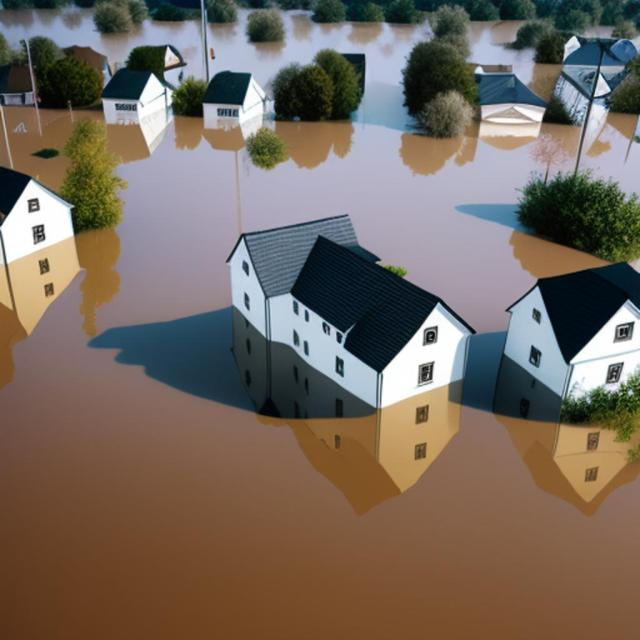flood: (0, 9, 640, 640), (0, 7, 200, 75), (470, 22, 561, 98), (3, 106, 72, 191), (582, 112, 640, 193), (108, 126, 149, 162), (0, 114, 9, 166), (73, 110, 102, 120)
house: (286, 231, 478, 407), (217, 204, 382, 347), (486, 273, 638, 415), (551, 30, 635, 136), (1, 163, 78, 268), (103, 69, 169, 150), (470, 68, 549, 130), (202, 67, 266, 140), (3, 54, 40, 112)
